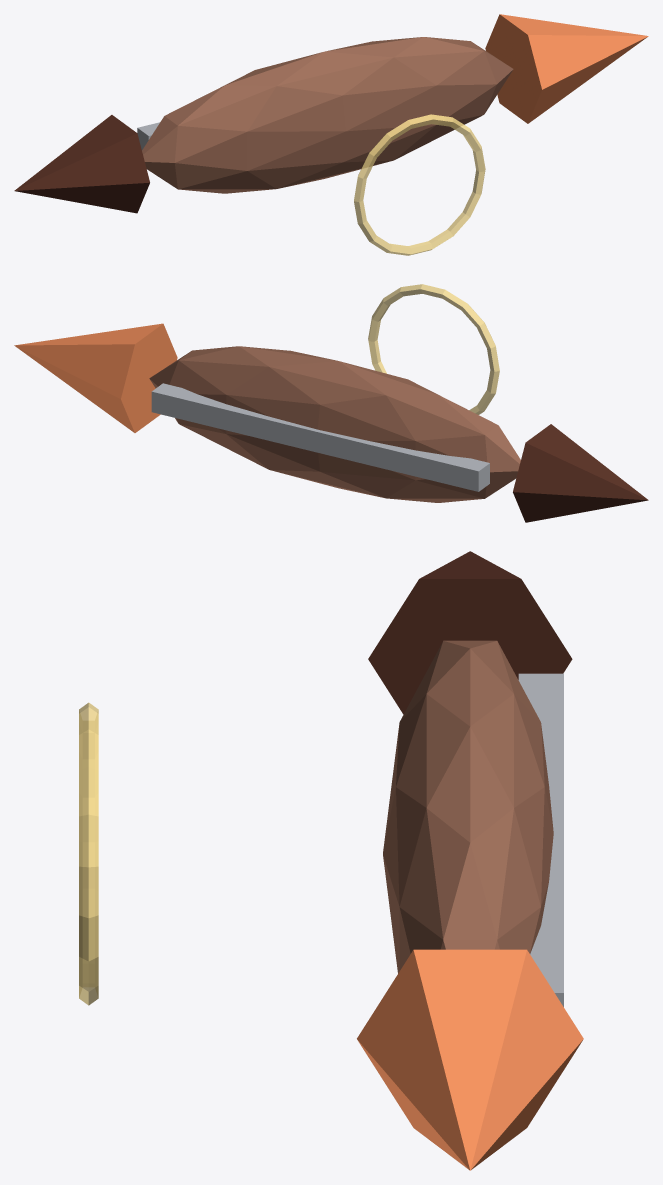
The model's file is 05_skyship_hull.glb.
3 views of the same model, one above another, from view 1: azimuth 30°, elevation 25°; view 2: azimuth 150°, elevation 25°; view 3: azimuth 270°, elevation 25° (orthographic). The views are drawn at different scales.
Visible parts, largest first — view 1: hull_low_poly, bow_upgrade, stern_fin, size_class_ring; view 2: hull_low_poly, bow_upgrade, keel_plate, stern_fin, size_class_ring; view 3: hull_low_poly, bow_upgrade, stern_fin, keel_plate, size_class_ring.
Part boxes in pixels (left/top/right/bottom): hull_low_poly: left=142, top=37, right=513, bottom=193; bow_upgrade: left=485, top=14, right=648, bottom=123; stern_fin: left=14, top=115, right=149, bottom=213; size_class_ring: left=354, top=114, right=485, bottom=255; hull_low_poly: left=149, top=346, right=520, bottom=502; bow_upgrade: left=14, top=323, right=177, bottom=432; keel_plate: left=151, top=383, right=489, bottom=491; stern_fin: left=513, top=424, right=648, bottom=522; size_class_ring: left=368, top=284, right=499, bottom=414; hull_low_poly: left=383, top=640, right=553, bottom=973; bow_upgrade: left=357, top=949, right=583, bottom=1170; stern_fin: left=368, top=551, right=572, bottom=714; keel_plate: left=518, top=673, right=563, bottom=1006; size_class_ring: left=79, top=702, right=98, bottom=1005.
Bounding box in the file's own units: 6.2 × 1.27 × 2.13.
